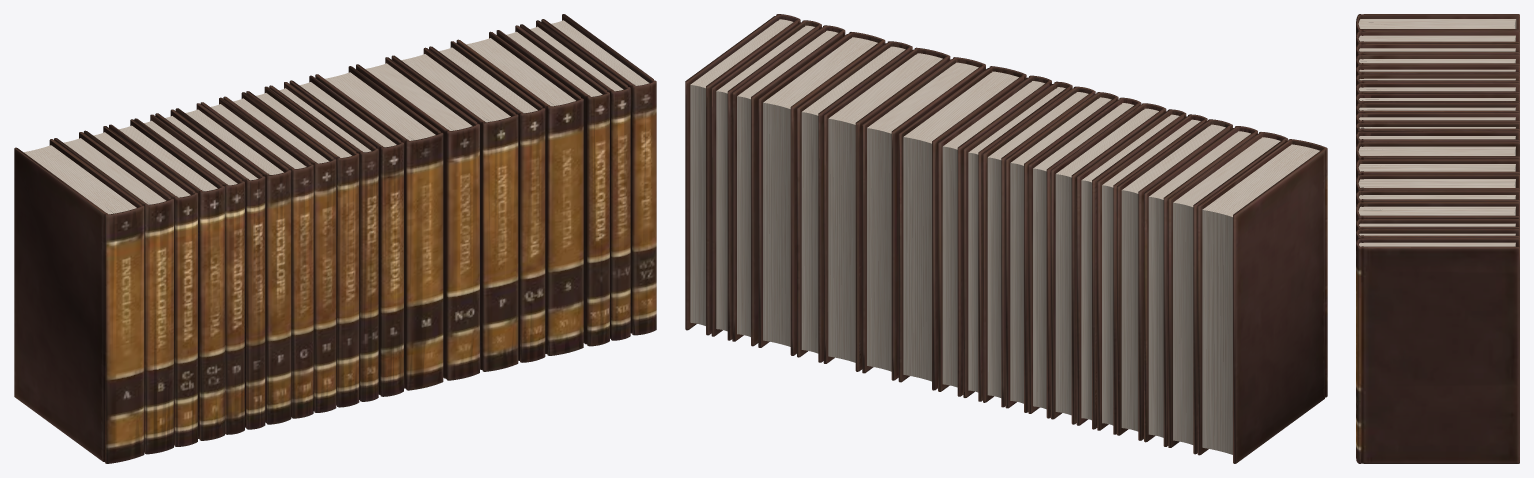
Rendered from books.glb.
The picture shows the model from 3 angles, left to right: view 1: azimuth 30°, elevation 25°; view 2: azimuth 150°, elevation 25°; view 3: azimuth 270°, elevation 25°; orthographic projection. The views are drawn at different scales.
Visible parts, largest first — view 1: book_encyclopedia_set_01_book01; view 2: book_encyclopedia_set_01_book01; view 3: book_encyclopedia_set_01_book01.
Part boxes in pixels (left/top/right/bottom): book_encyclopedia_set_01_book01: left=14, top=14, right=656, bottom=463; book_encyclopedia_set_01_book01: left=685, top=14, right=1327, bottom=463; book_encyclopedia_set_01_book01: left=1356, top=14, right=1519, bottom=463.
Bounding box in the file's own units: 0.5513 × 0.2374 × 0.1631.
2 materials, 2 textured.
